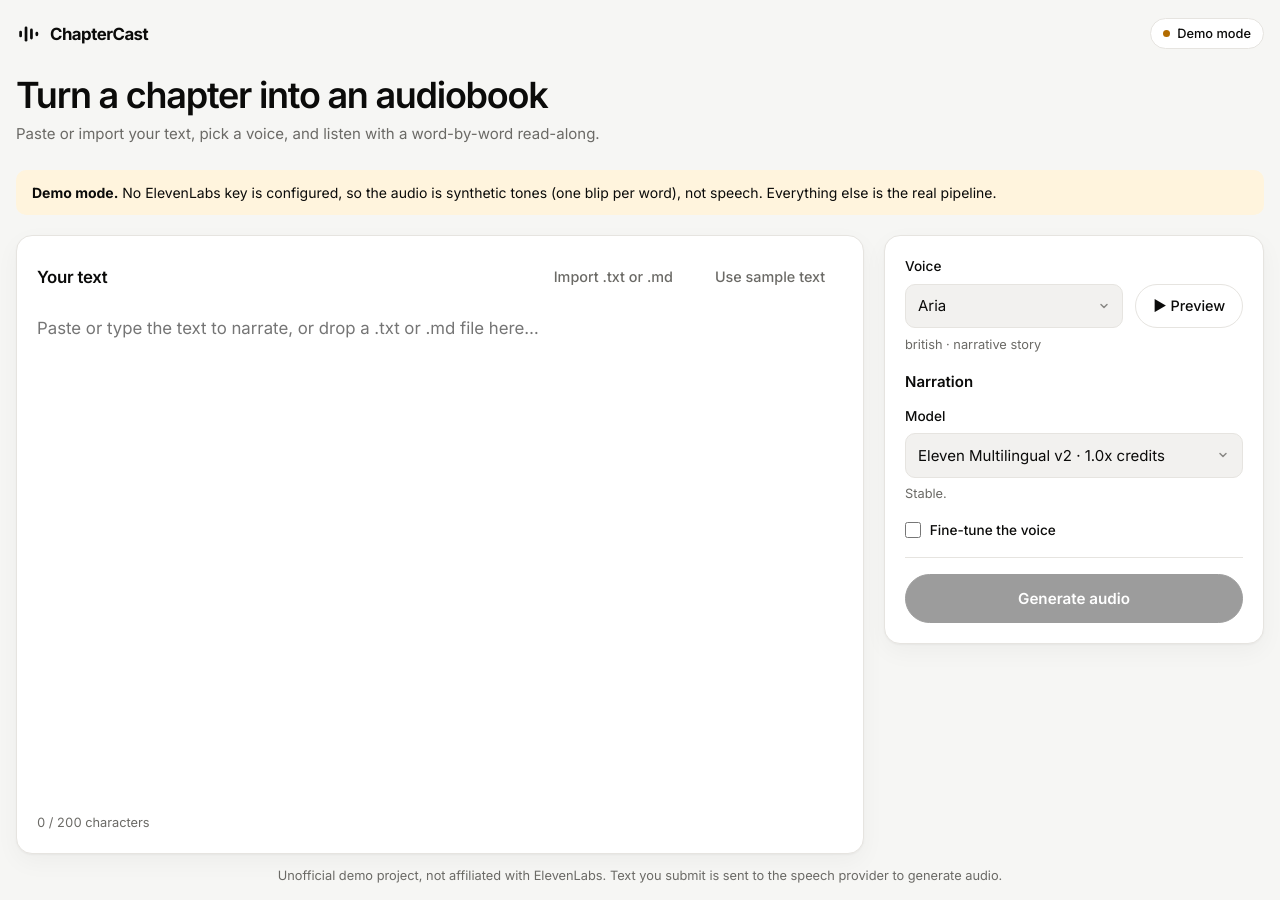
Test: App › lists the models with their cost and capability badges
Select "Eleven v4 Turbo · 0.5x credits" in the dropdown labelled "Model". click: (1074, 455)
box: [905,433,1243,478]
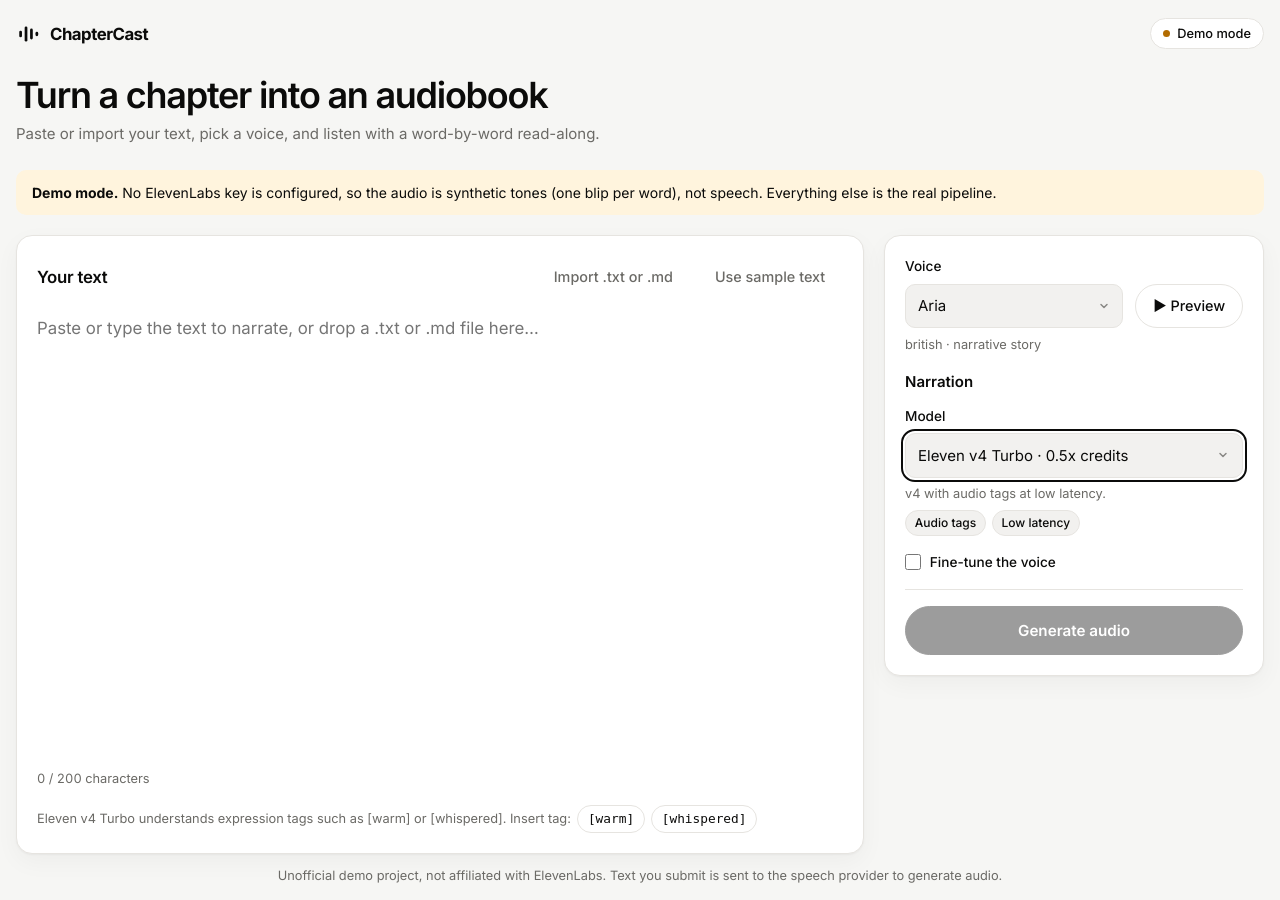
Check: the list items read "Audio tags", "Low latency", in this order, box [905,510,986,536]; [992,510,1080,536]
Check: the text "v4 with audio tags at low latency." is shown, box [905,486,1106,501]
